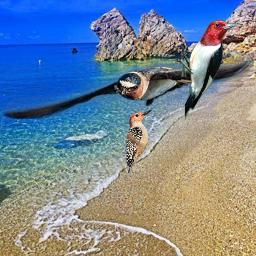Swallow: (1, 53, 254, 119)
Woodpecker: (174, 20, 238, 121), (126, 109, 152, 175)
